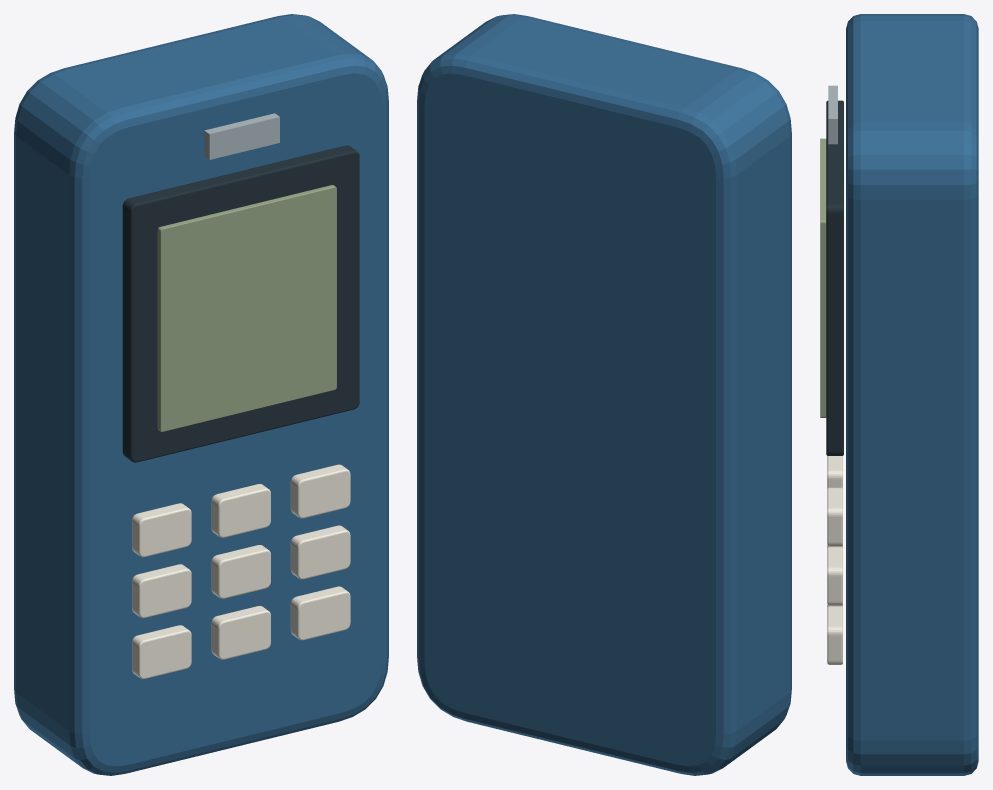
File: old-phone-keypad.glb
3 views of the same model, side by side, from view 1: azimuth 30°, elevation 25°; view 2: azimuth 150°, elevation 25°; view 3: azimuth 270°, elevation 25° (orthographic). The views are drawn at different scales.
Visible parts, largest first — view 1: old-phone-keypad; view 2: old-phone-keypad; view 3: old-phone-keypad.
Boxes of the visible parts, x1,y1,x2,y2 form: old-phone-keypad: (14, 14, 388, 775); old-phone-keypad: (417, 14, 791, 775); old-phone-keypad: (820, 14, 978, 775).
Size of the model in its own units: 0.18 by 0.36 by 0.08.
